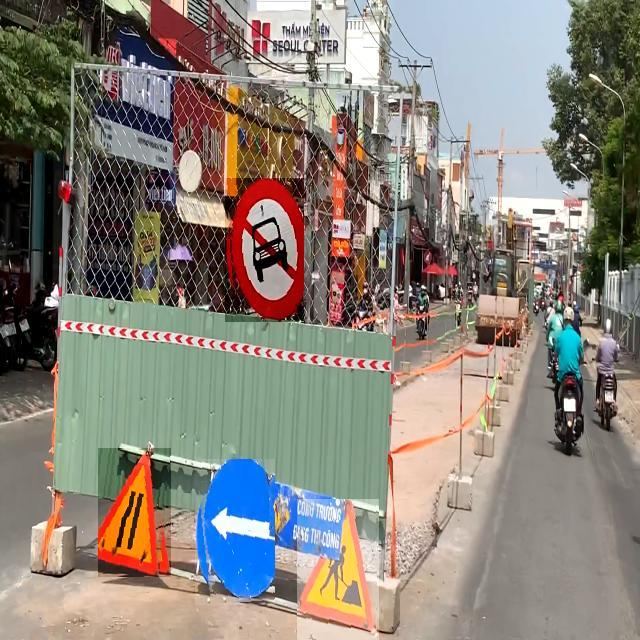P-103a: (225, 178, 304, 322)
R-301c: (195, 459, 275, 605)
W-203b: (98, 448, 171, 577)
W-227: (297, 499, 379, 640)
